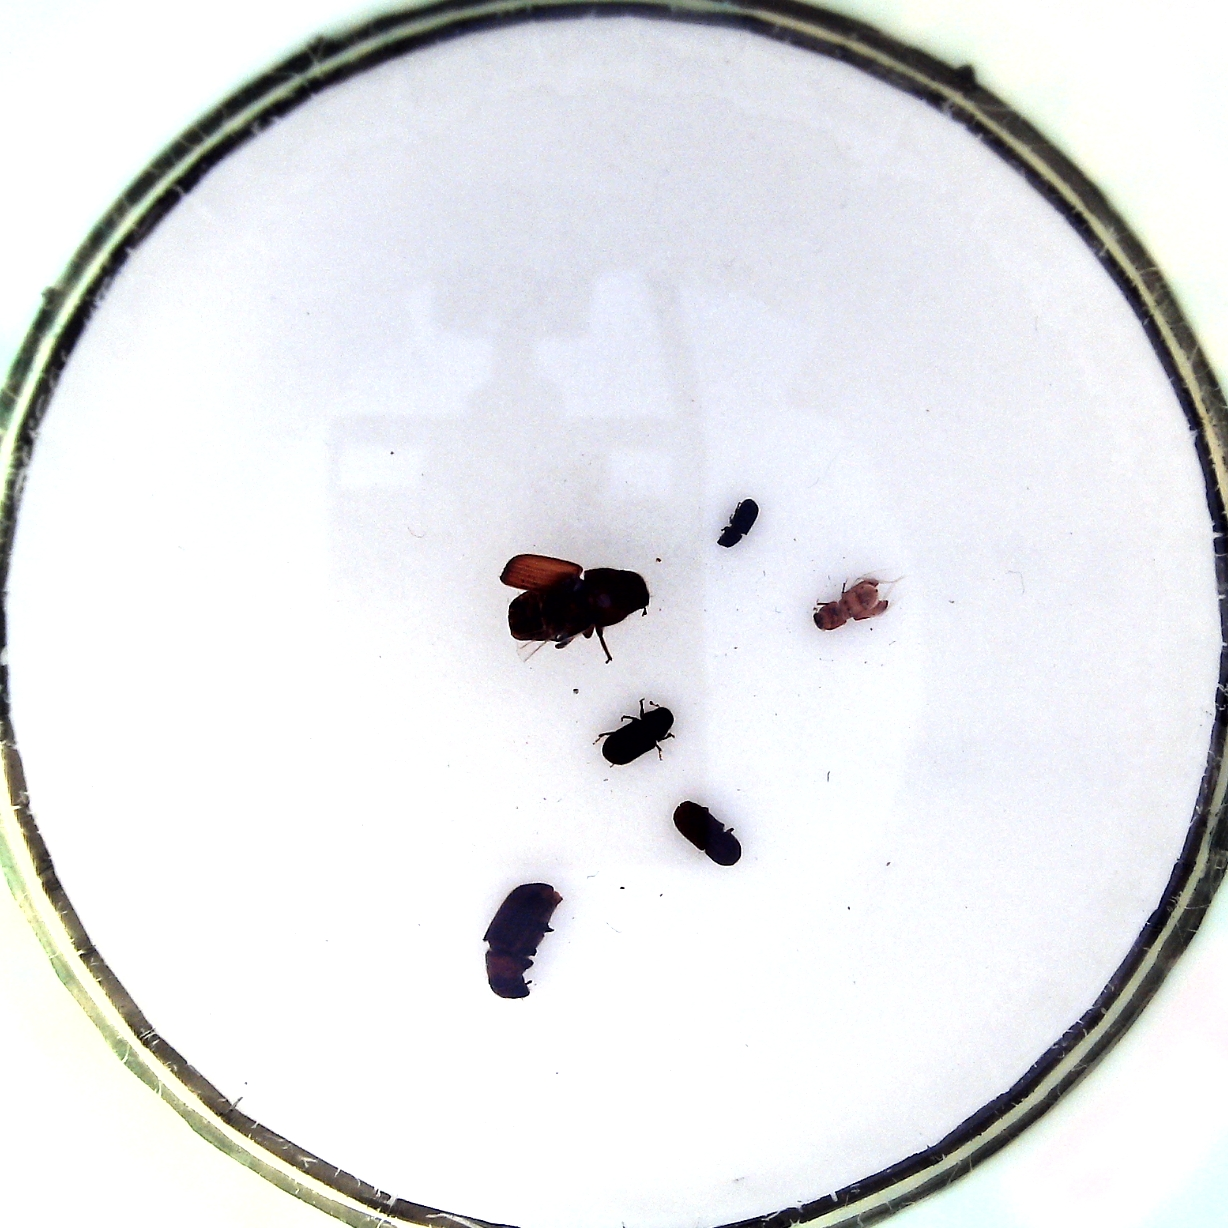Leconte: (499, 552, 654, 657), (480, 881, 560, 1001)
Linnaeus: (670, 798, 744, 868)
acuminatus: (807, 576, 891, 634)
armandi: (596, 703, 678, 765)
coleoptera: (716, 496, 760, 550)
